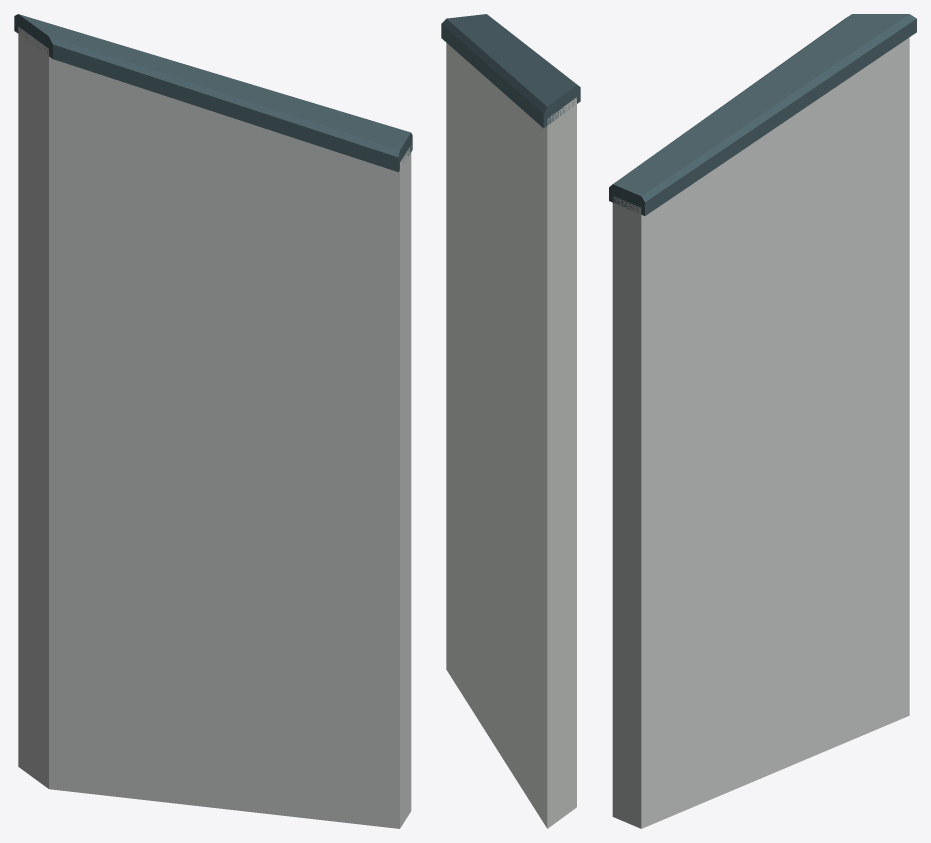
Rendered from halfwall_45_starboard_rise_5_miter_7071_7071_0_14142.glb.
3 renders of one model, left to right at view 1: azimuth 30°, elevation 25°; view 2: azimuth 150°, elevation 25°; view 3: azimuth 270°, elevation 25°, orthographic. The views are drawn at different scales.
Visible parts, largest first — view 1: Seamless solid halfwall.109, Seamless top cap.109; view 2: Seamless solid halfwall.109, Seamless top cap.109; view 3: Seamless solid halfwall.109, Seamless top cap.109.
Boxes of the visible parts, <box> form: Seamless solid halfwall.109: <box>18,26,411,828</box>; Seamless top cap.109: <box>14,14,412,172</box>; Seamless solid halfwall.109: <box>446,43,576,828</box>; Seamless top cap.109: <box>441,14,580,128</box>; Seamless solid halfwall.109: <box>612,37,909,828</box>; Seamless top cap.109: <box>609,14,916,215</box>.
Bounding box in the file's own units: 0.5354 × 1.52 × 0.6061.
